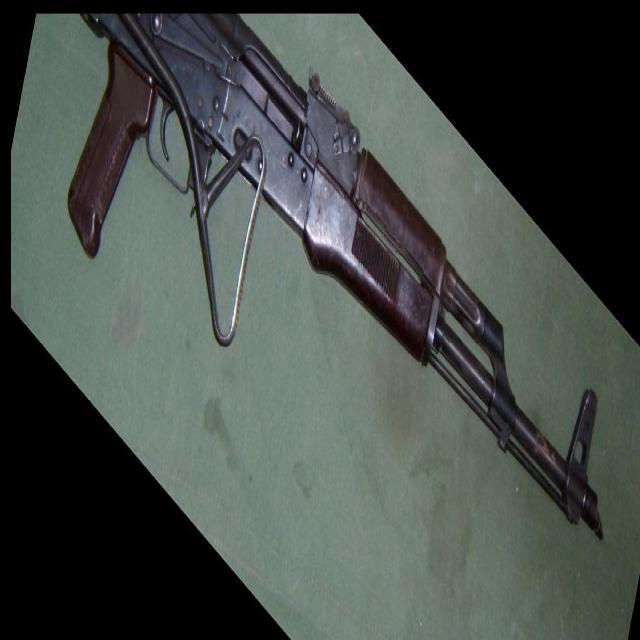weapon: (68, 14, 606, 544)
